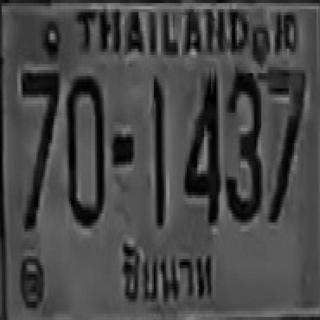N00: (66, 73, 104, 222)
N01: (152, 75, 164, 224)
N03: (225, 70, 260, 219)
N04: (183, 72, 219, 221)
N07: (21, 68, 59, 227), (266, 67, 304, 220)
P08: (117, 234, 221, 306)
